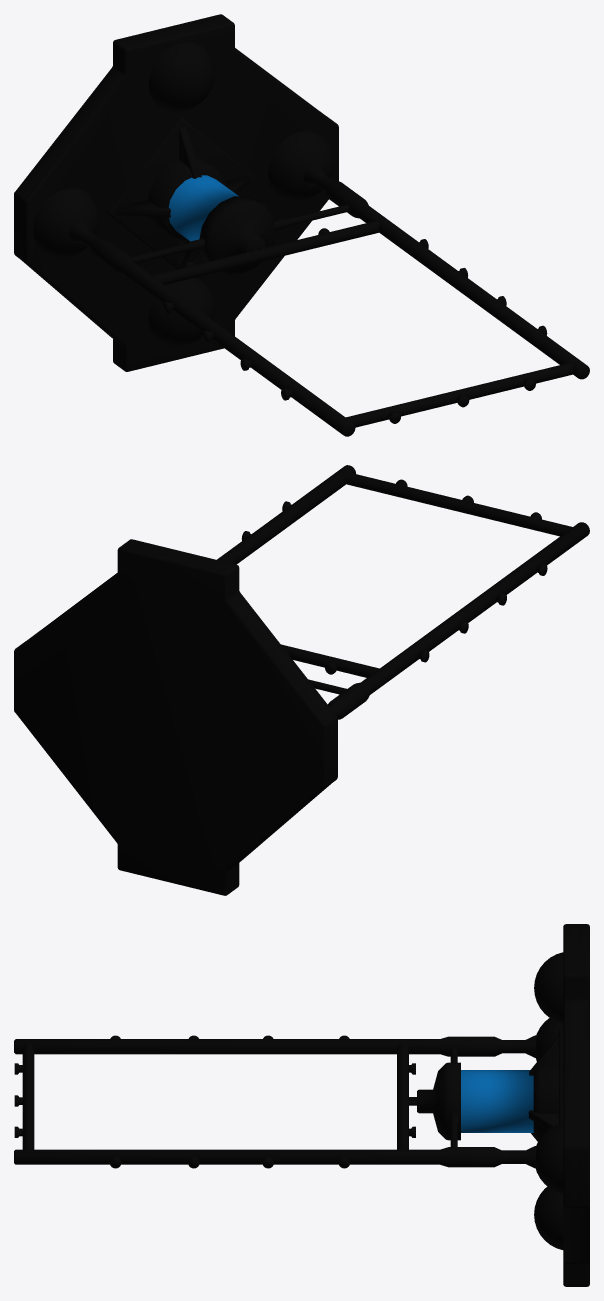
Rendered from Cassandra_Rack.obj.
The picture shows the model from 3 angles, top to bottom: view 1: azimuth 30°, elevation 25°; view 2: azimuth 150°, elevation 25°; view 3: azimuth 270°, elevation 25°; orthographic projection. The views are drawn at different scales.
Parts seen in each view (by area): view 1: Cassandra_Rack_Cube.006; view 2: Cassandra_Rack_Cube.006; view 3: Cassandra_Rack_Cube.006.
Part boxes in pixels (left/top/right/bottom): Cassandra_Rack_Cube.006: left=14, top=14, right=589, bottom=436; Cassandra_Rack_Cube.006: left=14, top=465, right=589, bottom=895; Cassandra_Rack_Cube.006: left=14, top=924, right=589, bottom=1286.
Bounding box in the file's own units: 12.41 × 12.25 × 20.46.
